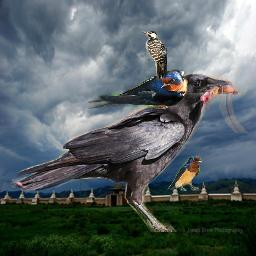Crow: (11, 68, 256, 232)
Swallow: (88, 69, 188, 109), (167, 156, 202, 191)
Woodpecker: (142, 31, 167, 81)
